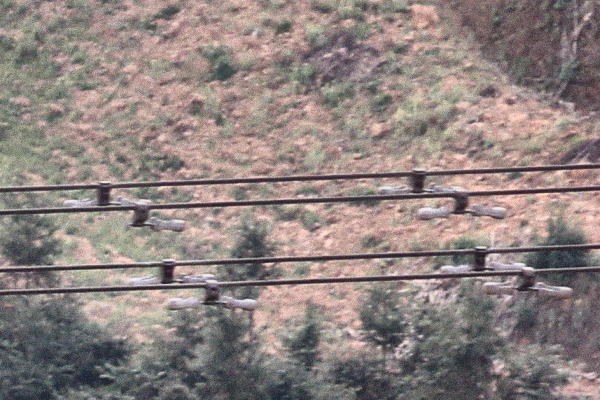damper: (482, 265, 575, 300), (163, 279, 257, 312), (416, 190, 508, 221), (59, 179, 149, 209), (121, 257, 217, 284), (437, 244, 528, 272), (374, 167, 465, 194)
damper_defect: (123, 201, 186, 233)
